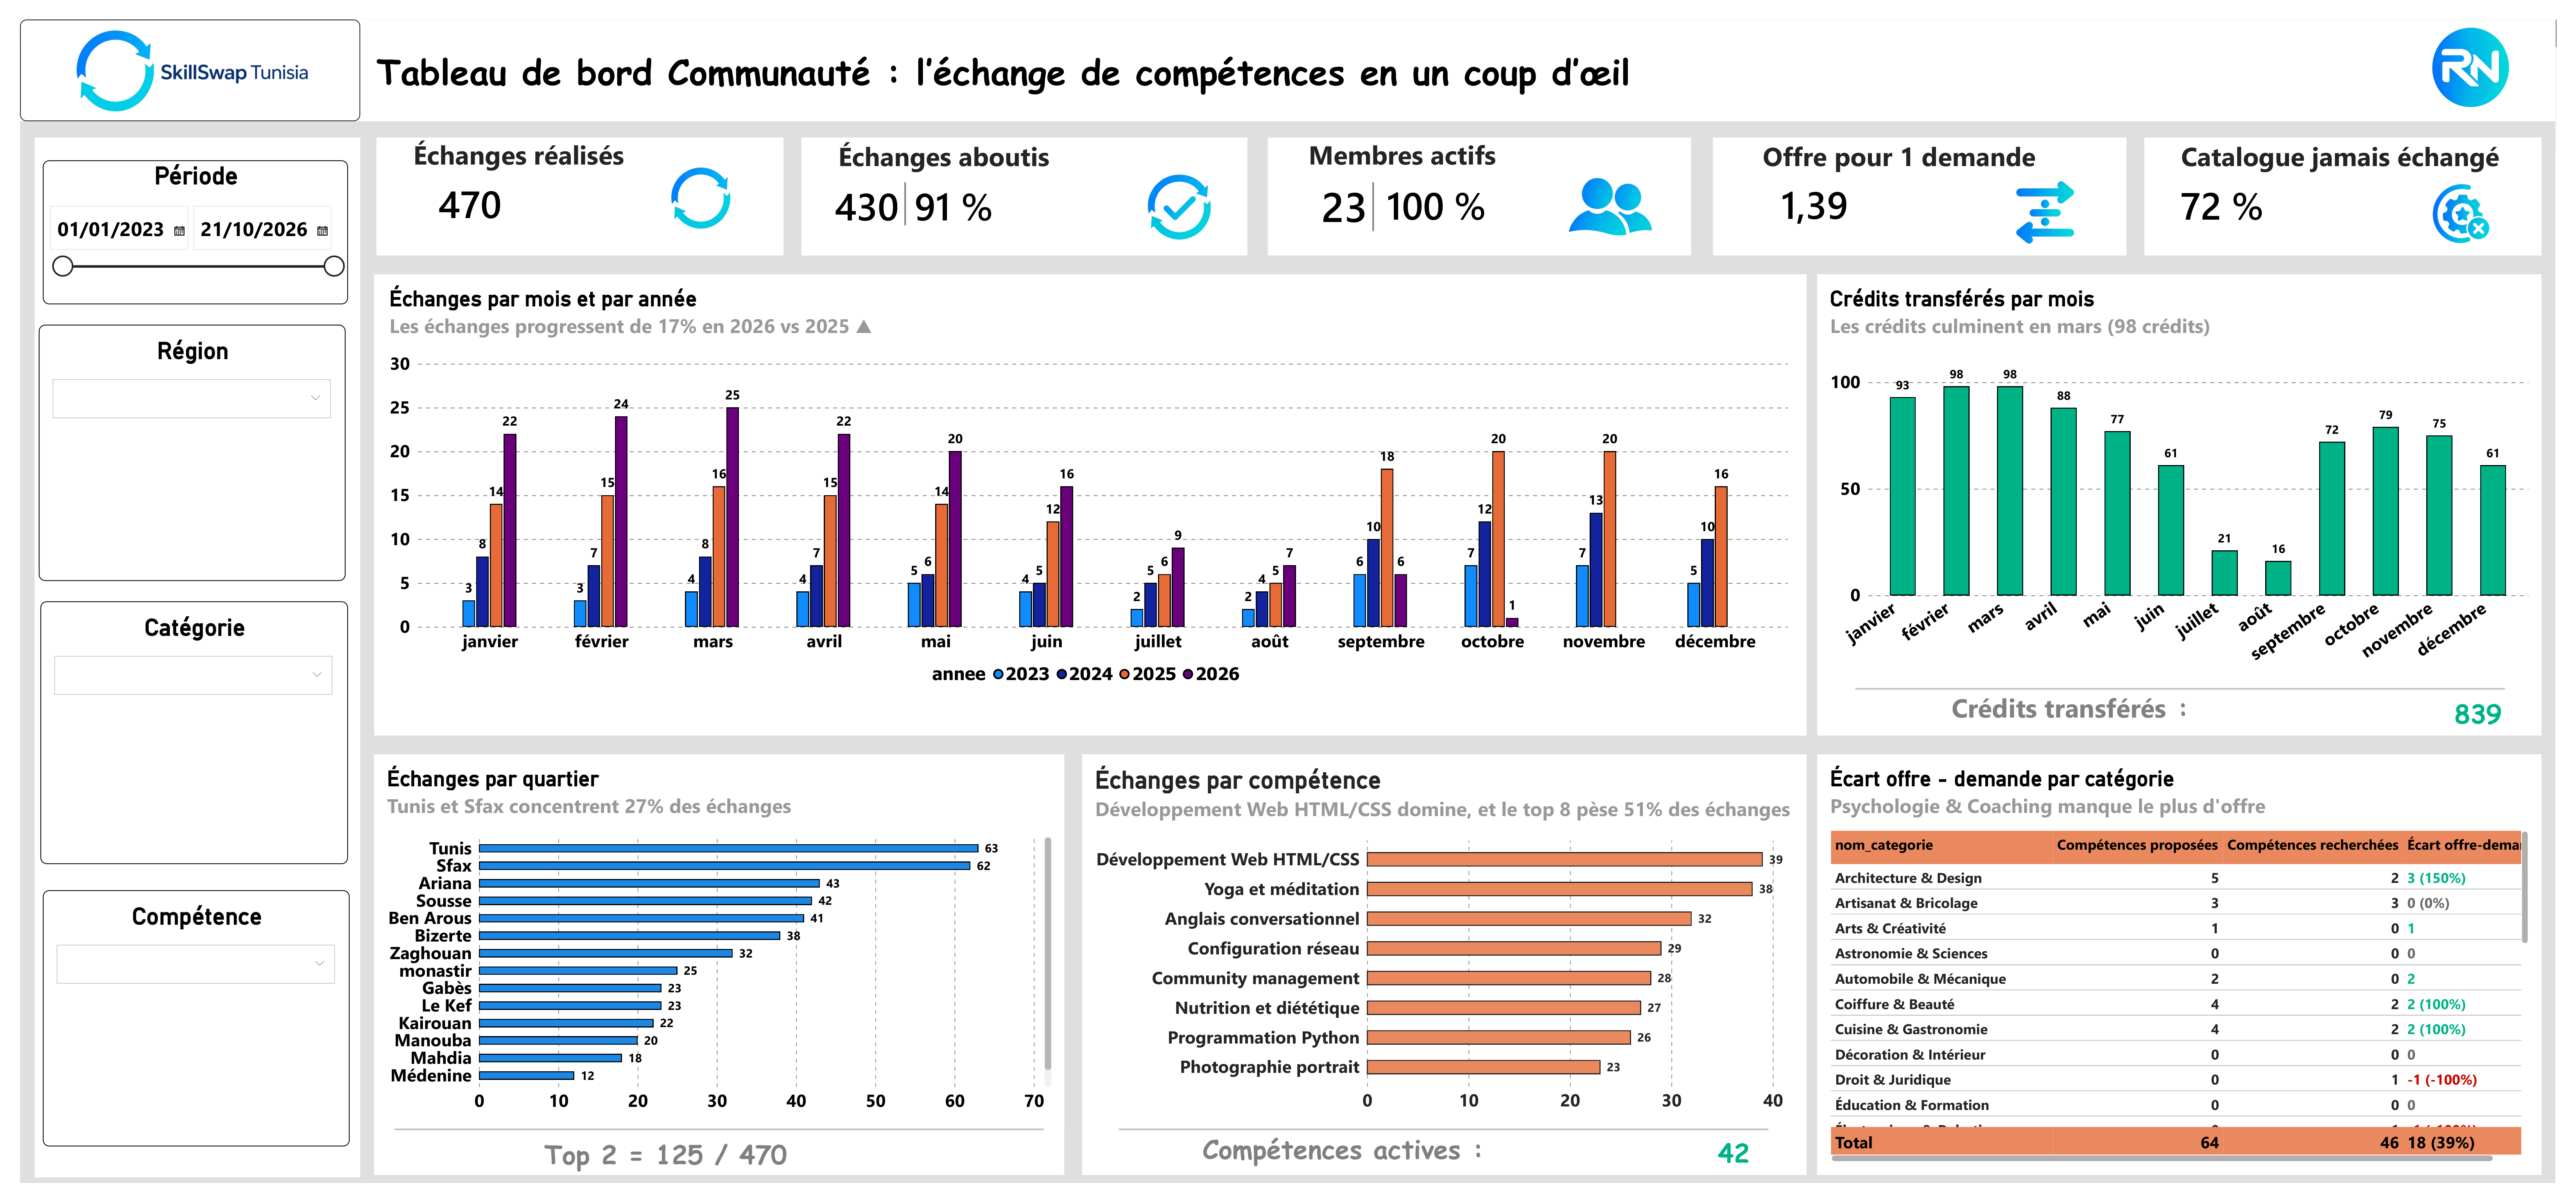

The dashboard page shown, as its layout file describes it:
{"tool":"powerbi","page":{"name":"Page 1","canvas":[3115,1430],"ordinal":0},"visuals":[{"type":"shape","box":[17.5,145,400,1277.5],"z":3000},{"type":"shape","box":[435,312.5,1760,567.5],"z":4000},{"type":"shape","box":[1305,902.5,890,517.5],"z":5000},{"type":"shape","box":[435,902.5,847.5,517.5],"z":6000},{"type":"shape","box":[2207.5,902.5,890,517.5],"z":7000},{"type":"slicer","title":"Période","fields":{"Values":["public dim_temps.Date"]},"box":[27.5,172.5,375,177.5],"z":11000},{"type":"SmartFilterBySQLBI1458262140625","title":"Région","fields":{"Values":["public dim_quartiers.nom_quartier"]},"box":[22.5,375,377.5,315],"z":12000},{"type":"SmartFilterBySQLBI1458262140625","title":"Catégorie","fields":{"Values":["public dim_categories.nom_categorie"]},"box":[25,715,377.5,322.5],"z":13000},{"type":"SmartFilterBySQLBI1458262140625","title":"Compétence","fields":{"Values":["public dim_competences.nom_competence"]},"box":[27.5,1070,377.5,315],"z":14000},{"type":"shape","box":[437.5,145,500,145],"z":16000},{"type":"shape","box":[1532.5,145,520,145],"z":17000},{"type":"shape","box":[2080,145,507.5,145],"z":18000},{"type":"shape","box":[2610,145,487.5,145],"z":19000},{"type":"shape","box":[960,145,547.5,145],"z":20000},{"type":"cardVisual","fields":{"Data":["_Mesures.Nb échanges"]},"box":[497.5,190,170,70],"z":21000},{"type":"textbox","box":[435,142.5,355,60],"z":22000},{"type":"cardVisual","fields":{"Data":["_Mesures.Nb échanges terminés"]},"box":[985,190,135,75],"z":23000},{"type":"textbox","box":[1005,145,447.5,60],"z":24000},{"type":"shape","box":[1070,200,35,52.5],"z":25000},{"type":"cardVisual","fields":{"Data":["_Mesures.Taux de réussite"]},"box":[1082.5,192.5,152.5,70],"z":26000},{"type":"textbox","box":[1582.5,142.5,422.5,62.5],"z":27000},{"type":"cardVisual","fields":{"Data":["_Mesures.Utilisateurs actifs"]},"box":[1582.5,190,102.5,75],"z":28000},{"type":"textbox","box":[2130,145,357.5,60],"z":30000},{"type":"cardVisual","fields":{"Data":["_Mesures.Part compétences dormantes"]},"box":[2637.5,182.5,170,87.5],"z":31000},{"type":"textbox","box":[2655,145,442.5,72.5],"z":32000},{"type":"clusteredColumnChart","title":"Échanges par mois et par année","fields":{"Category":["public dim_temps.nom_mois"],"Series":["public dim_temps.annee"],"Y":["_Mesures.Nb échanges"]},"box":[437.5,312.5,1750,525],"z":33000},{"type":"clusteredBarChart","title":"Échanges par quartier","fields":{"Category":["public dim_quartiers.nom_quartier"],"Y":["_Mesures.Nb échanges"]},"box":[435,902.5,847.5,462.5],"z":34000},{"type":"shape","box":[460,1342.5,797.5,42.5],"z":35000},{"type":"cardVisual","fields":{"Data":["_Mesures.Pied quartiers"]},"box":[627.5,1365,630,57.5],"z":36000},{"type":"shape","box":[2207.5,312.5,890,567.5],"z":37000},{"type":"clusteredColumnChart","title":"Crédits transférés par mois","fields":{"Category":["public dim_temps.nom_mois"],"Y":["_Mesures.Crédits transférés"]},"box":[2207.5,312.5,890,510],"z":38000},{"type":"textbox","box":[1327.5,822.5,510,30],"z":39000},{"type":"textbox","box":[2372.5,822.5,530,57.5],"z":40000},{"type":"shape","box":[2255,815,797.5,15],"z":41000},{"type":"cardVisual","fields":{"Data":["_Mesures.Crédits transférés"]},"box":[2975,822.5,140,57.5],"z":42000},{"type":"clusteredBarChart","title":"Échanges par compétence","fields":{"Category":["public dim_competences.nom_competence"],"Y":["_Mesures.Nb échanges"]},"box":[1305,902.5,890,462.5],"z":43000},{"type":"cardVisual","fields":{"Data":["_Mesures.Compétences actives"]},"box":[2070,1352.5,117.5,77.5],"z":44000},{"type":"shape","box":[1350,1342.5,797.5,42.5],"z":45000},{"type":"textbox","box":[1452.5,1365,385,65],"z":46000},{"type":"tableEx","title":"Écart offre − demande par catégorie","fields":{"Values":["public dim_categories.nom_categorie","_Mesures.Compétences proposées","_Mesures.Compétences recherche","_Mesures.Écart offre-demande"]},"box":[2207.5,902.5,890,517.5],"z":47000},{"type":"image","box":[740,177.5,197.5,82.5],"z":47001},{"type":"shape","box":[1600,200,125,60],"z":47002},{"type":"cardVisual","fields":{"Data":["_Mesures.Taux d'activation"]},"box":[1662.5,192.5,227.5,67.5],"z":47003},{"type":"cardVisual","fields":{"Data":["_Mesures.Ratio O/D global"]},"box":[2147.5,187.5,155,75],"z":47004},{"type":"image","box":[1327.5,180,197.5,97.5],"z":47005},{"type":"image","box":[1855,182.5,197.5,97.5],"z":47006},{"type":"image","box":[2390,192.5,197.5,92.5],"z":47007},{"type":"image","box":[2902.5,187.5,197.5,92.5],"z":47008},{"type":"shape","box":[0,0,3115,125],"z":47010},{"type":"image","box":[0,0,417.5,125],"z":47011},{"type":"image","box":[2917.5,7.5,197.5,107.5],"z":47012},{"type":"textbox","box":[437.5,32.5,1770,92.5],"z":47013}]}

Visuals, with their boxes on the page's 3115x1430 design canvas (x1, y1, x2, y2). These are canvas units, not pixel positions in the 2576x1203 screenshot, which may show the page scaled, cropped or inside an application window:
shape: region(18, 145, 418, 1422)
shape: region(435, 312, 2195, 880)
shape: region(1305, 902, 2195, 1420)
shape: region(435, 902, 1282, 1420)
shape: region(2208, 902, 3098, 1420)
"Période" slicer: region(28, 172, 402, 350)
"Région" SmartFilterBySQLBI1458262140625: region(22, 375, 400, 690)
"Catégorie" SmartFilterBySQLBI1458262140625: region(25, 715, 402, 1038)
"Compétence" SmartFilterBySQLBI1458262140625: region(28, 1070, 405, 1385)
shape: region(438, 145, 938, 290)
shape: region(1532, 145, 2052, 290)
shape: region(2080, 145, 2588, 290)
shape: region(2610, 145, 3098, 290)
shape: region(960, 145, 1508, 290)
cardVisual - _Mesures.Nb échanges: region(498, 190, 668, 260)
textbox: region(435, 142, 790, 202)
cardVisual - _Mesures.Nb échanges terminés: region(985, 190, 1120, 265)
textbox: region(1005, 145, 1452, 205)
shape: region(1070, 200, 1105, 252)
cardVisual - _Mesures.Taux de réussite: region(1082, 192, 1235, 262)
textbox: region(1582, 142, 2005, 205)
cardVisual - _Mesures.Utilisateurs actifs: region(1582, 190, 1685, 265)
textbox: region(2130, 145, 2488, 205)
cardVisual - _Mesures.Part compétences dormantes: region(2638, 182, 2808, 270)
textbox: region(2655, 145, 3098, 218)
"Échanges par mois et par année" clusteredColumnChart: region(438, 312, 2188, 838)
"Échanges par quartier" clusteredBarChart: region(435, 902, 1282, 1365)
shape: region(460, 1342, 1258, 1385)
cardVisual - _Mesures.Pied quartiers: region(628, 1365, 1258, 1422)
shape: region(2208, 312, 3098, 880)
"Crédits transférés par mois" clusteredColumnChart: region(2208, 312, 3098, 822)
textbox: region(1328, 822, 1838, 852)
textbox: region(2372, 822, 2902, 880)
shape: region(2255, 815, 3052, 830)
cardVisual - _Mesures.Crédits transférés: region(2975, 822, 3115, 880)
"Échanges par compétence" clusteredBarChart: region(1305, 902, 2195, 1365)
cardVisual - _Mesures.Compétences actives: region(2070, 1352, 2188, 1430)
shape: region(1350, 1342, 2148, 1385)
textbox: region(1452, 1365, 1838, 1430)
"Écart offre − demande par catégorie" tableEx: region(2208, 902, 3098, 1420)
image: region(740, 178, 938, 260)
shape: region(1600, 200, 1725, 260)
cardVisual - _Mesures.Taux d'activation: region(1662, 192, 1890, 260)
cardVisual - _Mesures.Ratio O/D global: region(2148, 188, 2302, 262)
image: region(1328, 180, 1525, 278)
image: region(1855, 182, 2052, 280)
image: region(2390, 192, 2588, 285)
image: region(2902, 188, 3100, 280)
shape: region(0, 0, 3115, 125)
image: region(0, 0, 418, 125)
image: region(2918, 8, 3115, 115)
textbox: region(438, 32, 2208, 125)
